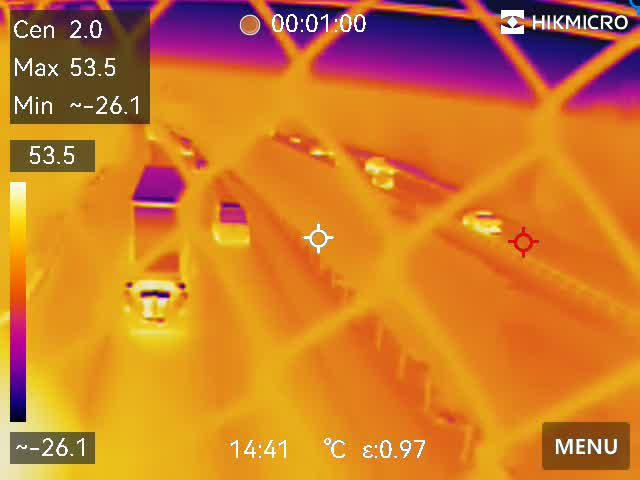heavyTruck: (123, 161, 188, 346)
vehicle: (210, 199, 255, 252), (463, 208, 506, 236), (365, 158, 399, 181)
